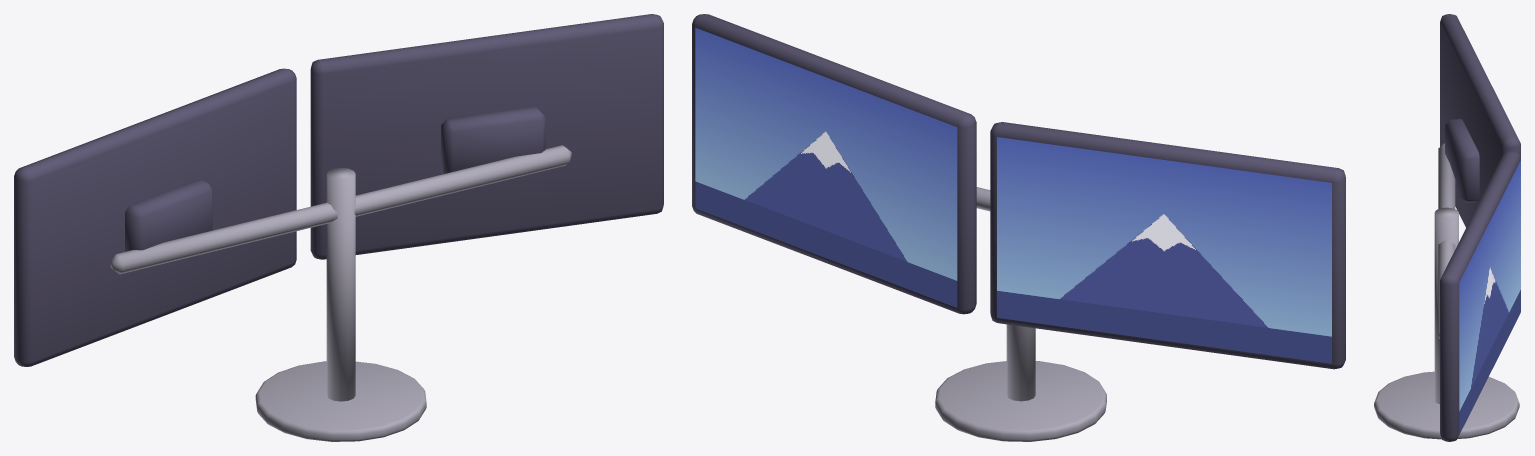
Rendered from senior_dual_monitor.glb.
The picture shows the model from 3 angles, left to right: view 1: azimuth 30°, elevation 25°; view 2: azimuth 150°, elevation 25°; view 3: azimuth 270°, elevation 25°; orthographic projection. The views are drawn at different scales.
Visible parts, largest first — view 1: senior_dual_monitor__SlateLavDark, senior_dual_monitor__Metal; view 2: senior_dual_monitor__ScreenTex, senior_dual_monitor__SlateLavDark, senior_dual_monitor__Metal; view 3: senior_dual_monitor__SlateLavDark, senior_dual_monitor__ScreenTex, senior_dual_monitor__Metal.
Part boxes in pixels (left/top/right/bottom): senior_dual_monitor__SlateLavDark: left=14, top=14, right=663, bottom=366; senior_dual_monitor__Metal: left=110, top=145, right=571, bottom=441; senior_dual_monitor__ScreenTex: left=695, top=27, right=1331, bottom=363; senior_dual_monitor__SlateLavDark: left=692, top=14, right=1345, bottom=369; senior_dual_monitor__Metal: left=935, top=187, right=1106, bottom=441; senior_dual_monitor__SlateLavDark: left=1440, top=14, right=1520, bottom=441; senior_dual_monitor__ScreenTex: left=1459, top=160, right=1520, bottom=433; senior_dual_monitor__Metal: left=1374, top=143, right=1519, bottom=439.
Size of the model in its own units: 1.13 by 0.525 by 0.2624.
3 materials, 1 textured.
